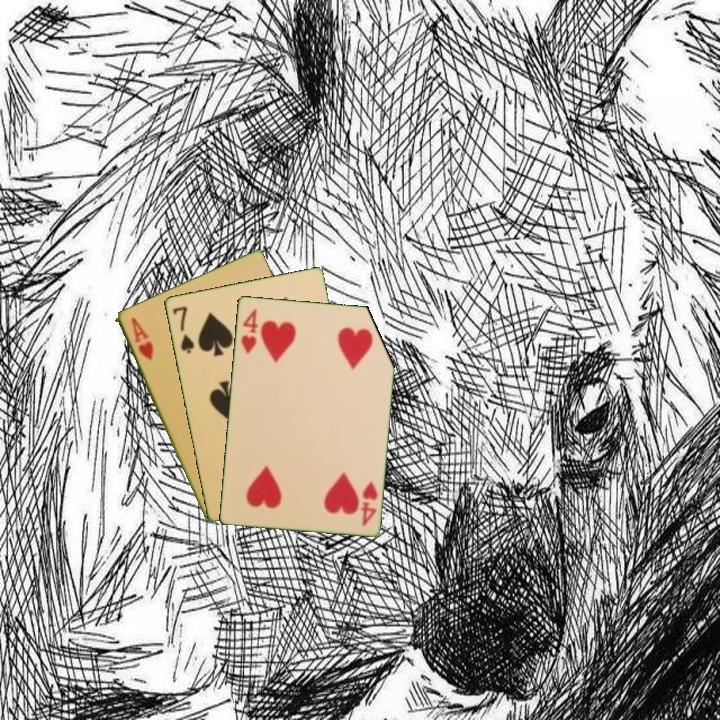4h: (237, 305, 260, 357), (357, 477, 380, 528)
7s: (169, 302, 197, 356)
Ah: (127, 314, 156, 363)
